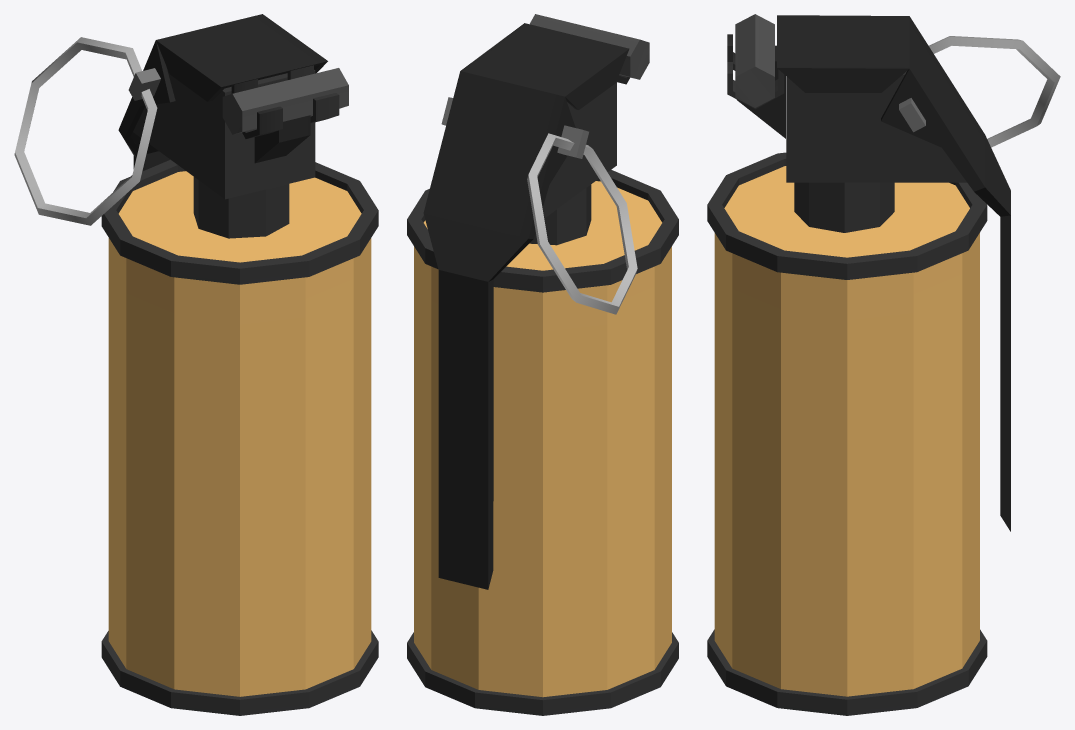
The model's file is Concussive2.FBX.
The picture shows the model from 3 angles, left to right: view 1: azimuth 30°, elevation 25°; view 2: azimuth 150°, elevation 25°; view 3: azimuth 270°, elevation 25°; orthographic projection. The views are drawn at different scales.
Visible parts, largest first — view 1: Cylinder006, Sphere005, Object001, Object021; view 2: Cylinder006, Sphere005, Object001, Object021; view 3: Cylinder006, Sphere005, Object001.
Boxes of the visible parts, x1,y1,x2,y2 form: Cylinder006: (101, 159, 378, 715); Sphere005: (118, 14, 348, 238); Object001: (14, 37, 157, 225); Object021: (128, 68, 160, 100); Cylinder006: (407, 169, 678, 715); Sphere005: (423, 14, 649, 589); Object001: (527, 133, 637, 314); Object021: (441, 97, 588, 158); Cylinder006: (707, 152, 987, 715); Sphere005: (727, 14, 1010, 531); Object001: (929, 36, 1060, 147).
Size of the model in its own units: 0.1352 by 0.3033 by 0.1575.
